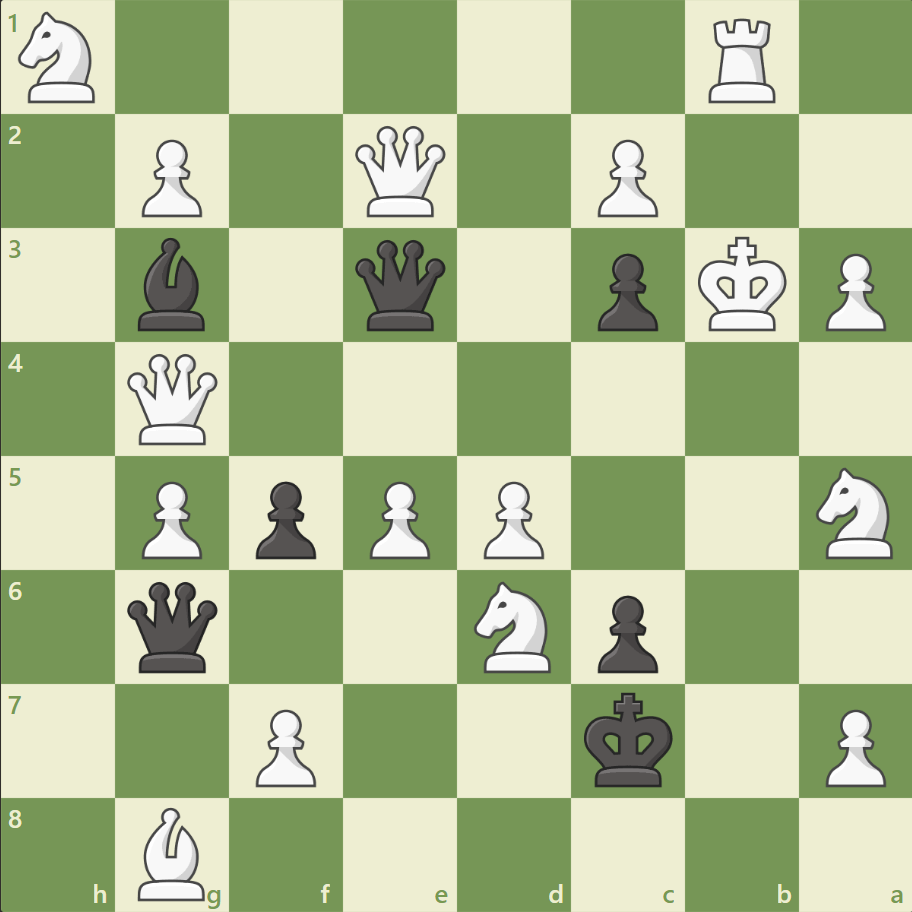B: (131, 801, 215, 904)
K: (692, 231, 792, 339)
N: (806, 461, 903, 564), (11, 7, 108, 110), (465, 575, 562, 677)
P: (247, 700, 322, 791), (474, 473, 549, 564), (133, 473, 208, 564), (133, 132, 208, 223), (815, 700, 889, 791), (361, 473, 435, 564), (815, 246, 889, 337), (588, 132, 662, 223)
Q: (124, 349, 223, 449), (351, 122, 450, 222)
R: (700, 12, 783, 109)
b: (131, 233, 215, 336)
k: (579, 685, 679, 793)
p: (247, 473, 322, 564), (588, 586, 662, 677), (588, 246, 662, 337)
q: (124, 576, 223, 676), (351, 236, 450, 335)
